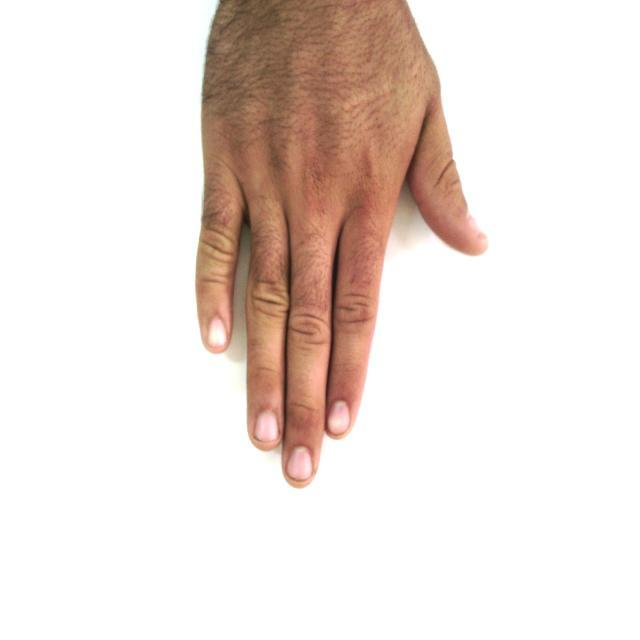Fingernail: (288, 447, 311, 480), (256, 412, 278, 443), (329, 401, 349, 435), (208, 316, 227, 348), (469, 214, 485, 238)
